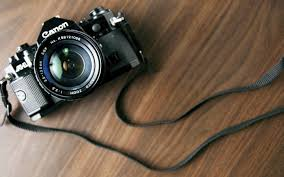camera: (10, 9, 140, 118)
